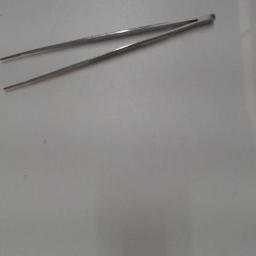DeBakey Dissector: (0, 6, 228, 102)
